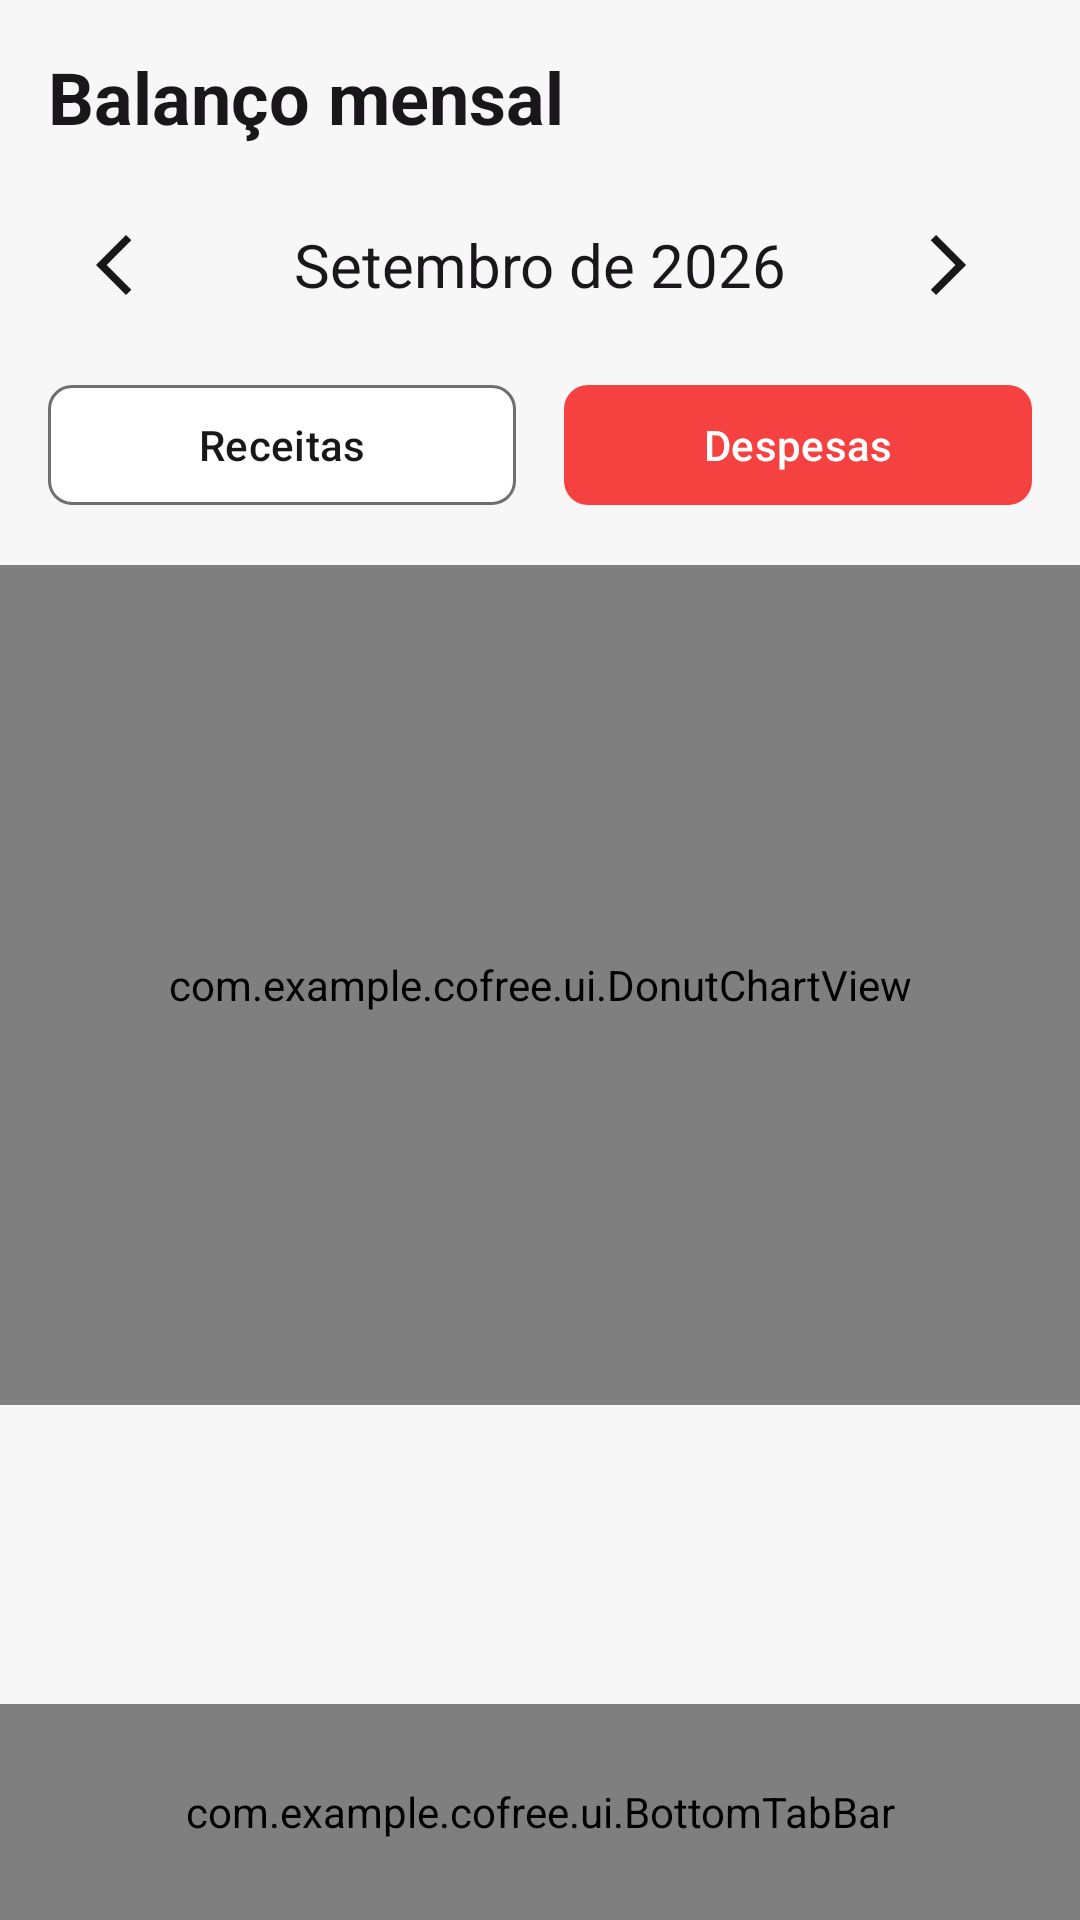

Named icons in this screenshot (1080×1920) and their centers, (x=x, y=y):
Mês anterior: (x=113, y=265)
Próximo mês: (x=948, y=265)
